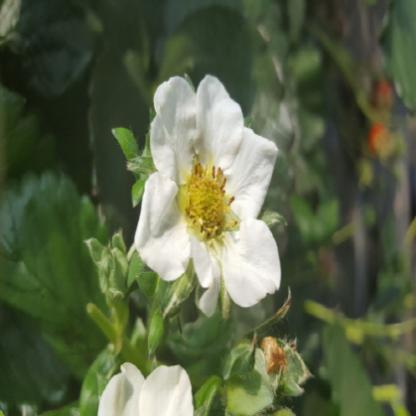Strawberry_Blossom_Blight: (171, 158, 243, 254)
